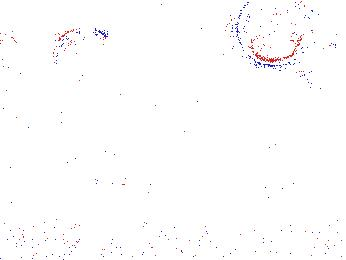moon jellyfish: (237, 1, 314, 67), (268, 42, 339, 91), (51, 28, 109, 82), (28, 1, 114, 26), (1, 32, 24, 81)
